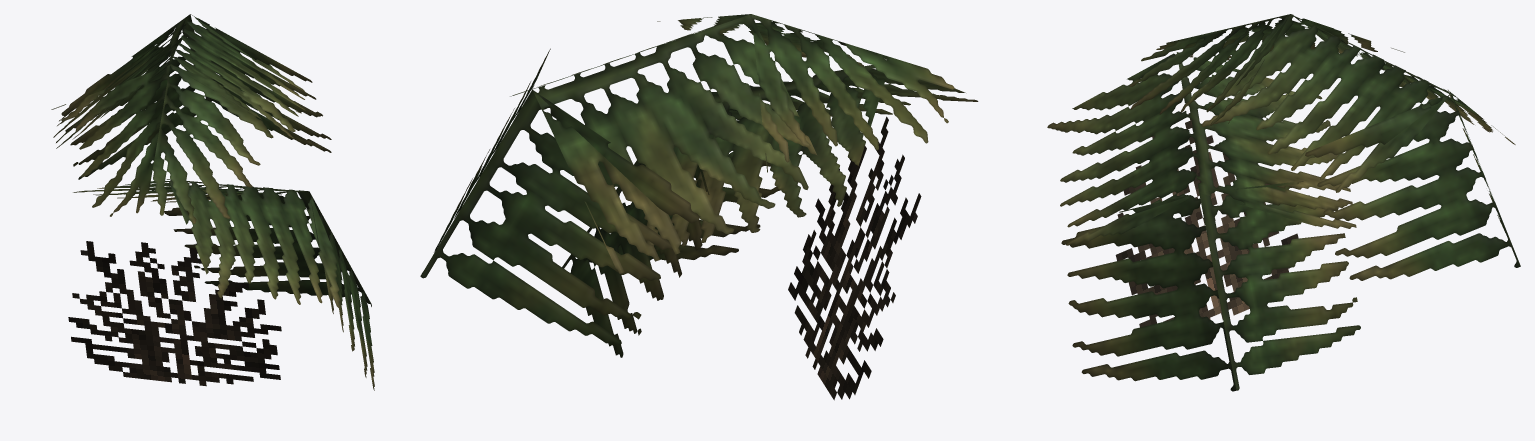
Rendered from caribbean_royal_palm_old_corner_1.obj.
3 renders of one model, left to right at view 1: azimuth 30°, elevation 25°; view 2: azimuth 150°, elevation 25°; view 3: azimuth 270°, elevation 25°, orthographic. The views are drawn at different scales.
Visible parts, largest first — view 1: cube.370; view 2: cube.370; view 3: cube.370.
Boxes of the visible parts, <box> form: cube.370: <box>51,14,374,390</box>; cube.370: <box>420,14,978,400</box>; cube.370: <box>1047,14,1520,391</box>.
Size of the model in its own units: 2.74 by 2.28 by 2.94.
